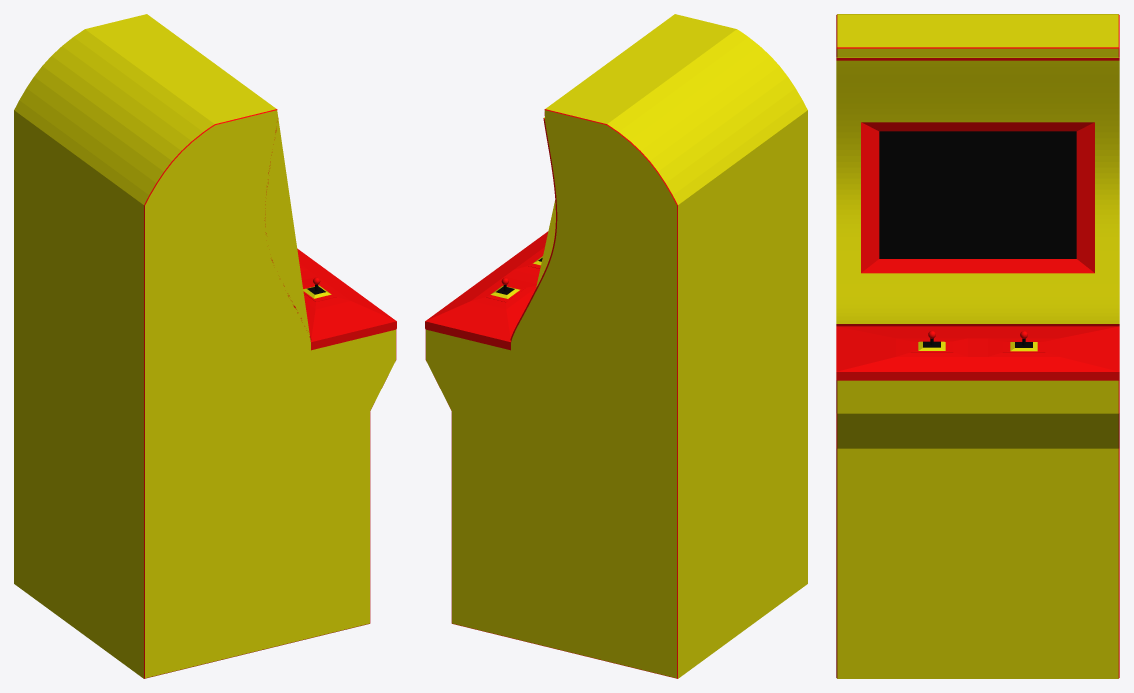
The model's file is arcadeVR0.fbx.
3 renders of one model, left to right at view 1: azimuth 30°, elevation 25°; view 2: azimuth 150°, elevation 25°; view 3: azimuth 270°, elevation 25°, orthographic. The views are drawn at different scales.
Visible parts, largest first — view 1: Cube; view 2: Cube; view 3: Cube, Cube.002, Cube.001.
Part boxes in pixels (x1=…): Cube: x1=14, y1=14, x2=396, y2=678; Cube: x1=425, y1=14, x2=807, y2=678; Cube: x1=836, y1=14, x2=1119, y2=678; Cube.002: x1=1002, y1=341, x2=1045, y2=352; Cube.001: x1=910, y1=341, x2=953, y2=352.
Bounding box in the file's own units: 223 × 454 × 200.
